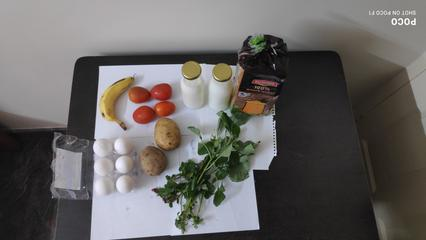banana: (101, 75, 129, 127)
bread: (232, 32, 285, 119)
eggs: (90, 135, 137, 198)
milk: (175, 58, 209, 110), (206, 60, 231, 107)
potato: (151, 118, 184, 151), (141, 144, 166, 174)
spinach: (184, 117, 239, 225)
tomato: (151, 81, 172, 100), (125, 87, 151, 102), (134, 105, 153, 124), (154, 103, 178, 117)
